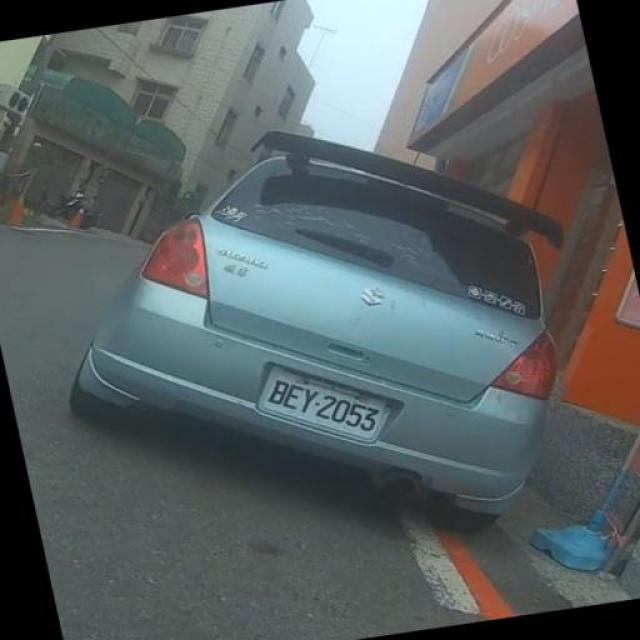Legalparking: (51, 102, 584, 557)
